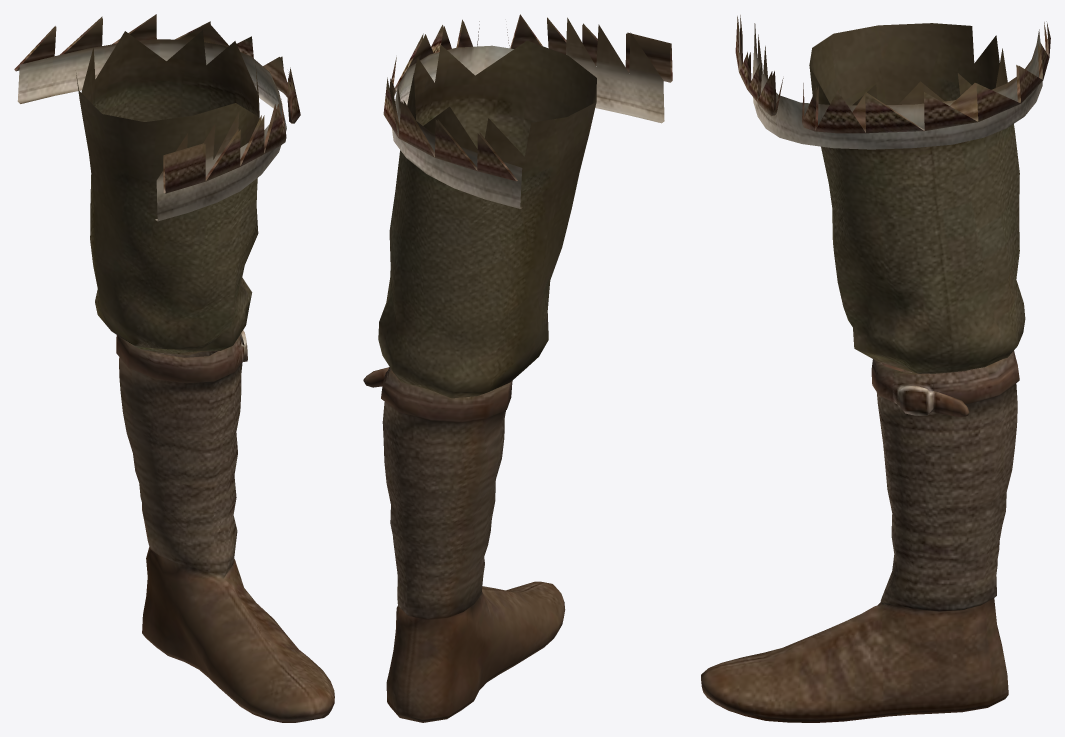
Rendered from character_leg_r.glb.
The picture shows the model from 3 angles, left to right: view 1: azimuth 30°, elevation 25°; view 2: azimuth 150°, elevation 25°; view 3: azimuth 270°, elevation 25°; orthographic projection. The views are drawn at different scales.
Visible parts, largest first — view 1: tripo_node_593ac940-e209-4632-be89-0699e29a8120; view 2: tripo_node_593ac940-e209-4632-be89-0699e29a8120; view 3: tripo_node_593ac940-e209-4632-be89-0699e29a8120.
Boxes of the visible parts, box(x1,y1,x2,y2) form: tripo_node_593ac940-e209-4632-be89-0699e29a8120: box(14, 14, 334, 722); tripo_node_593ac940-e209-4632-be89-0699e29a8120: box(363, 14, 672, 722); tripo_node_593ac940-e209-4632-be89-0699e29a8120: box(701, 15, 1050, 722).
Bounding box in the file's own units: 0.2378 × 0.7292 × 0.3664.
1 material, 1 textured.
